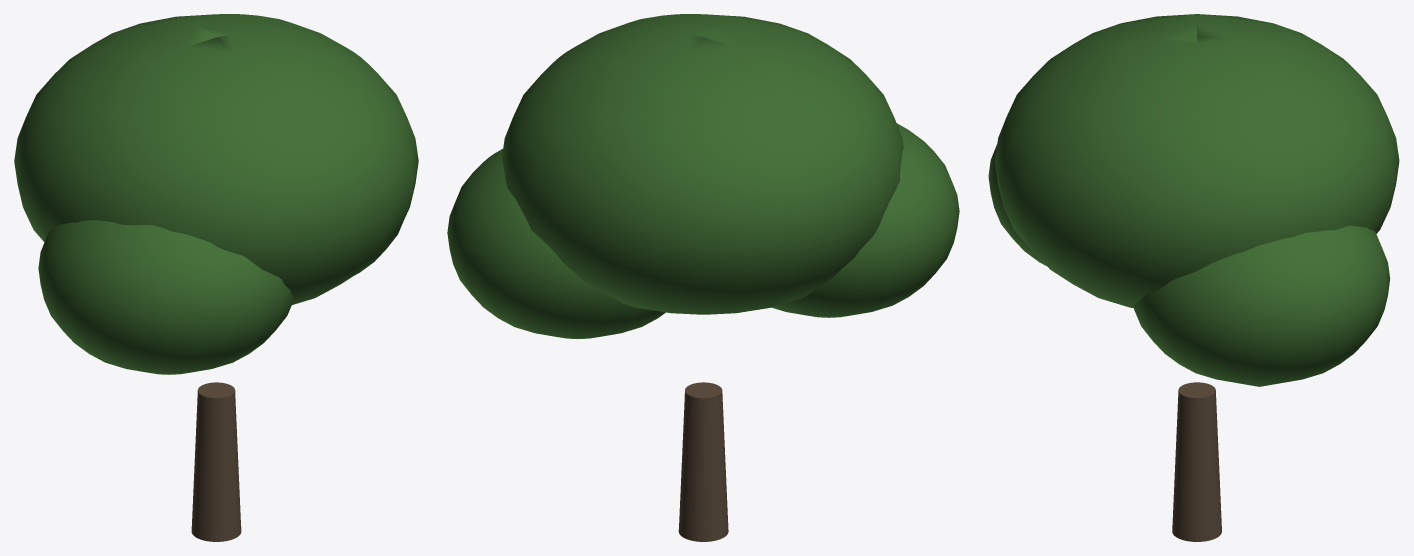
The model's file is e04-english-oak.glb.
3 views of the same model, side by side, from view 1: azimuth 30°, elevation 25°; view 2: azimuth 150°, elevation 25°; view 3: azimuth 270°, elevation 25° (orthographic).
Visible parts, largest first — view 1: part1, part3, part0; view 2: part1, part2, part3, part0; view 3: part1, part2, part0, part3.
Boxes of the visible parts, x1,y1,x2,y2 form: part1: [14, 14, 418, 304]; part3: [38, 220, 294, 374]; part0: [191, 382, 241, 541]; part1: [501, 14, 903, 314]; part2: [447, 149, 665, 338]; part3: [772, 123, 959, 317]; part0: [678, 382, 728, 541]; part1: [995, 14, 1399, 308]; part2: [1133, 225, 1390, 386]; part0: [1172, 382, 1221, 541]; part3: [988, 144, 1046, 265].
Size of the model in its own units: 15099 by 17500 by 13192.
